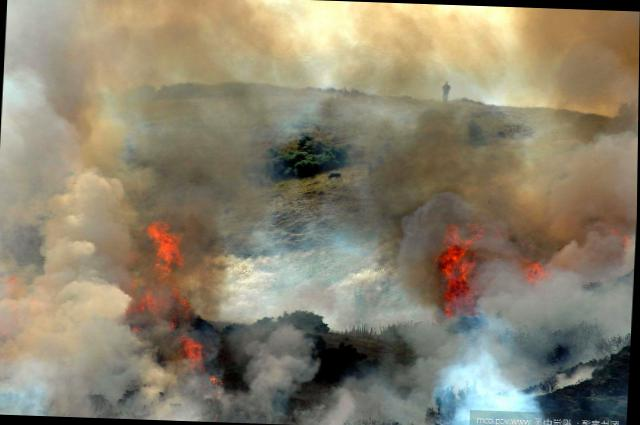fire: (447, 247, 475, 298), (159, 230, 182, 262)
